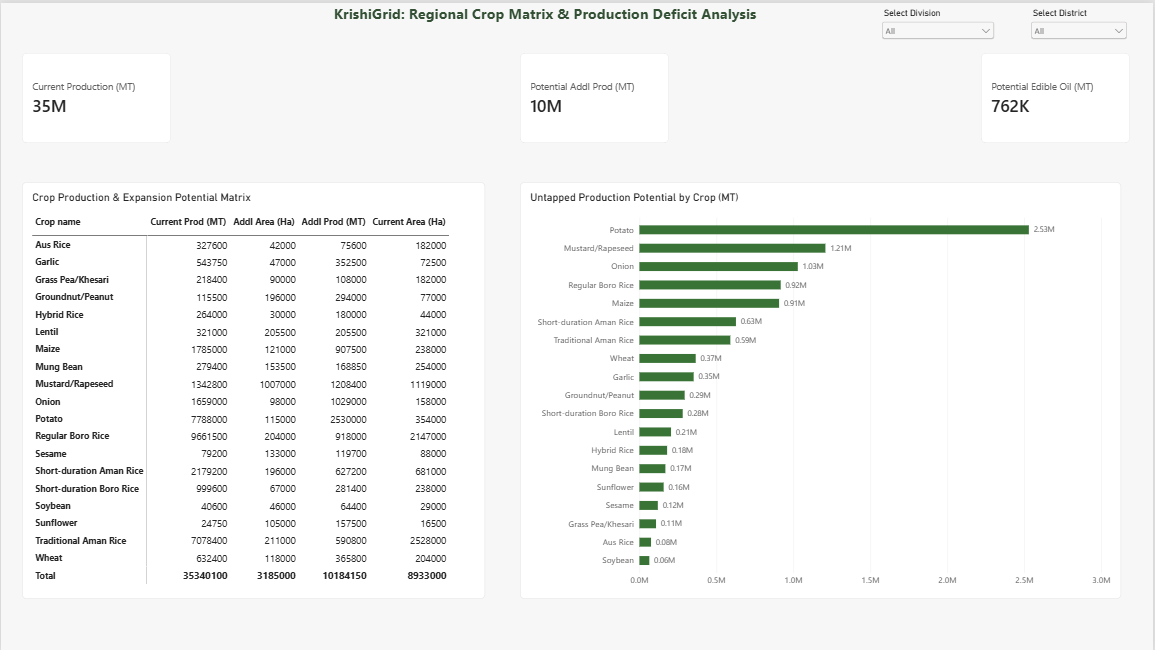

This screenshot's page, from the dashboard's own definition file:
{"tool":"powerbi","page":{"name":"Regional Crop Matrix & Production Deficit ","canvas":[1920,1080],"ordinal":1},"visuals":[{"type":"textbox","box":[10,0,1793.3,40],"z":0},{"type":"slicer","fields":{"Values":["bd_district_crop.district_name"]},"box":[1711.7,8.3,170,63.3],"z":2},{"type":"cardVisual","fields":{"Data":["Sum(bd_district_crop.current_production_mt)"]},"box":[35,83.3,248.3,150],"z":3},{"type":"cardVisual","fields":{"Data":["Sum(bd_district_crop.potential_additional_production_mt)"]},"box":[865,83.3,248,150],"z":4},{"type":"cardVisual","fields":{"Data":["Sum(bd_district_crop.potential_oil_from_additional_mt)"]},"box":[1633.3,83.3,248,150],"z":5},{"type":"slicer","fields":{"Values":["bd_district_crop.division"]},"box":[1463.3,8.3,196.7,55],"z":6},{"type":"pivotTable","title":"Crop Production & Expansion Potential Matrix","fields":{"Rows":["bd_district_crop.crop_name"],"Values":["Sum(bd_district_crop.current_production_mt)","Sum(bd_district_crop.potential_additional_area_hectare)","Sum(bd_district_crop.potential_additional_production_mt)","Sum(bd_district_crop.current_area_hectare)"]},"box":[35,298.3,771.7,695],"z":7},{"type":"clusteredBarChart","title":"Untapped Production Potential by Crop (MT)","fields":{"Category":["bd_district_crop.crop_name"],"Y":["Sum(bd_district_crop.potential_additional_production_mt)"]},"box":[865,298.3,1001.7,695],"z":8}]}

Visuals, with their boxes in screenshot pixels (x1, y1, x2, y2), scaled from the page's 1920x1080 canvas onto the 1155x650 screenshot:
textbox: box=[6, 0, 1085, 24]
slicer - bd_district_crop.district_name: box=[1030, 5, 1132, 43]
cardVisual - Sum(bd_district_crop.current_production_mt): box=[21, 50, 170, 140]
cardVisual - Sum(bd_district_crop.potential_additional_production_mt): box=[520, 50, 670, 140]
cardVisual - Sum(bd_district_crop.potential_oil_from_additional_mt): box=[983, 50, 1132, 140]
slicer - bd_district_crop.division: box=[880, 5, 999, 38]
"Crop Production & Expansion Potential Matrix" pivotTable: box=[21, 180, 485, 598]
"Untapped Production Potential by Crop (MT)" clusteredBarChart: box=[520, 180, 1123, 598]
